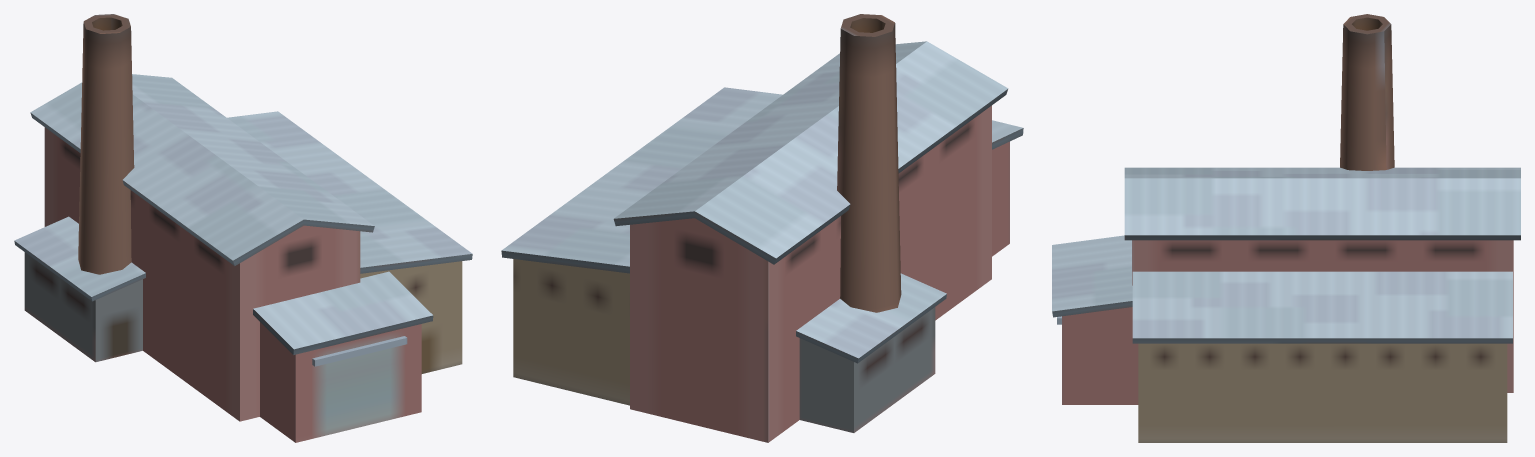
Rendered from Universal_Building_Factory_L1_01_Mod.fbx.
3 renders of one model, left to right at view 1: azimuth 30°, elevation 25°; view 2: azimuth 150°, elevation 25°; view 3: azimuth 270°, elevation 25°, orthographic. The views are drawn at different scales.
Parts seen in each view (by area): view 1: Universal_Building_Factory_L1_01_Mod; view 2: Universal_Building_Factory_L1_01_Mod; view 3: Universal_Building_Factory_L1_01_Mod.
Boxes of the visible parts, x1,y1,x2,y2 form: Universal_Building_Factory_L1_01_Mod: [14, 14, 472, 442]; Universal_Building_Factory_L1_01_Mod: [501, 14, 1023, 442]; Universal_Building_Factory_L1_01_Mod: [1052, 14, 1520, 442].
Size of the model in its own units: 1152 by 1195 by 1662.
